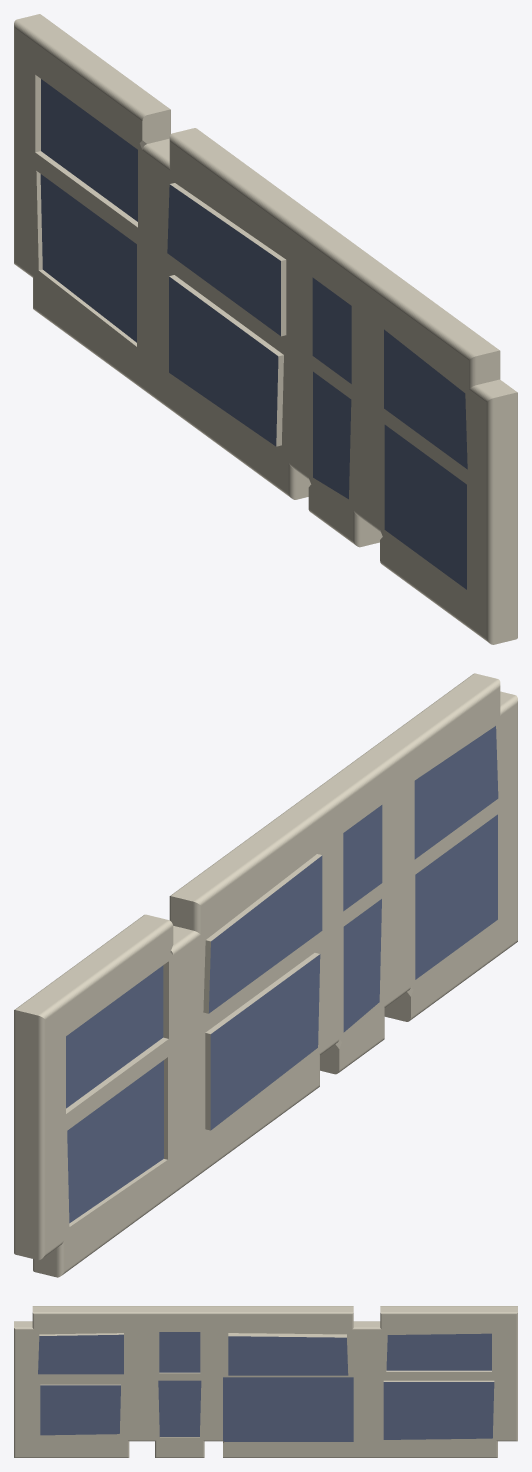
Rendered from obstaculofase1.fbx.
3 views of the same model, one above another, from view 1: azimuth 30°, elevation 25°; view 2: azimuth 150°, elevation 25°; view 3: azimuth 270°, elevation 25° (orthographic). The views are drawn at different scales.
Visible parts, largest first — view 1: Cube; view 2: Cube; view 3: Cube.
Boxes of the visible parts, box(x1,y1,x2,y2) form: Cube: box(14, 14, 517, 644); Cube: box(14, 673, 517, 1277); Cube: box(14, 1306, 517, 1457).
Bounding box in the file's own units: 320 × 1766 × 5540.
